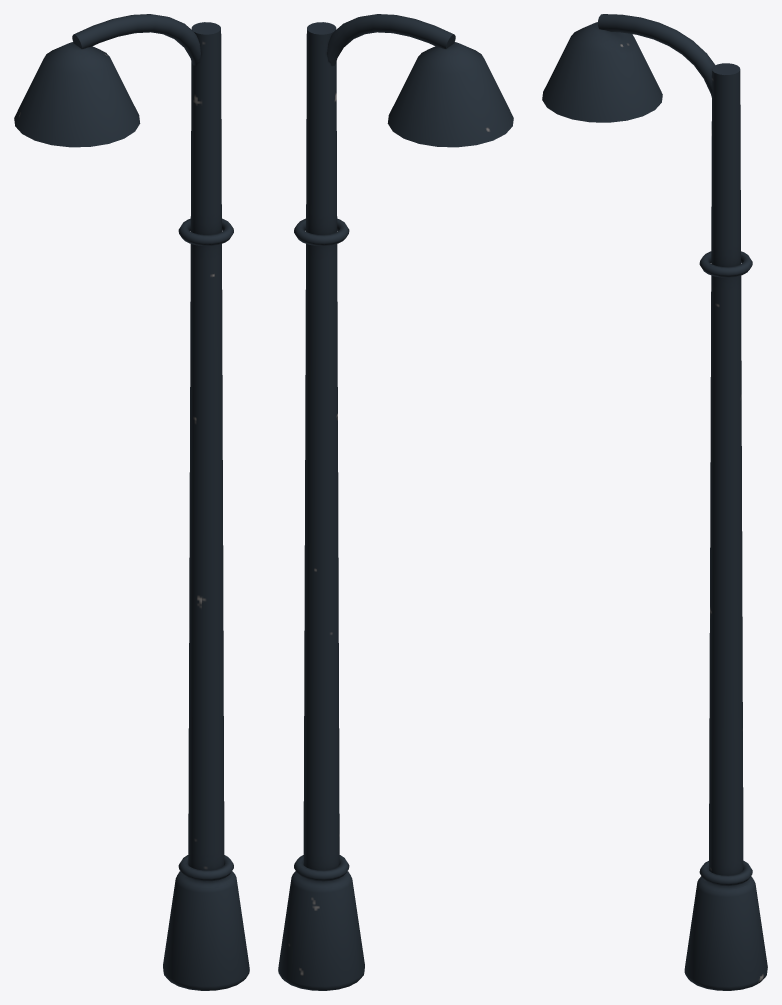
The model's file is prop_lamppost.fbx.
The picture shows the model from 3 angles, left to right: view 1: azimuth 30°, elevation 25°; view 2: azimuth 150°, elevation 25°; view 3: azimuth 330°, elevation 25°; orthographic projection. The views are drawn at different scales.
Visible parts, largest first — view 1: prop_lamppost; view 2: prop_lamppost; view 3: prop_lamppost.
Boxes of the visible parts, x1,y1,x2,y2 form: prop_lamppost: [14, 14, 249, 990]; prop_lamppost: [278, 14, 513, 990]; prop_lamppost: [542, 14, 767, 990].
Bounding box in the file's own units: 0.6874 × 2.89 × 0.34.
